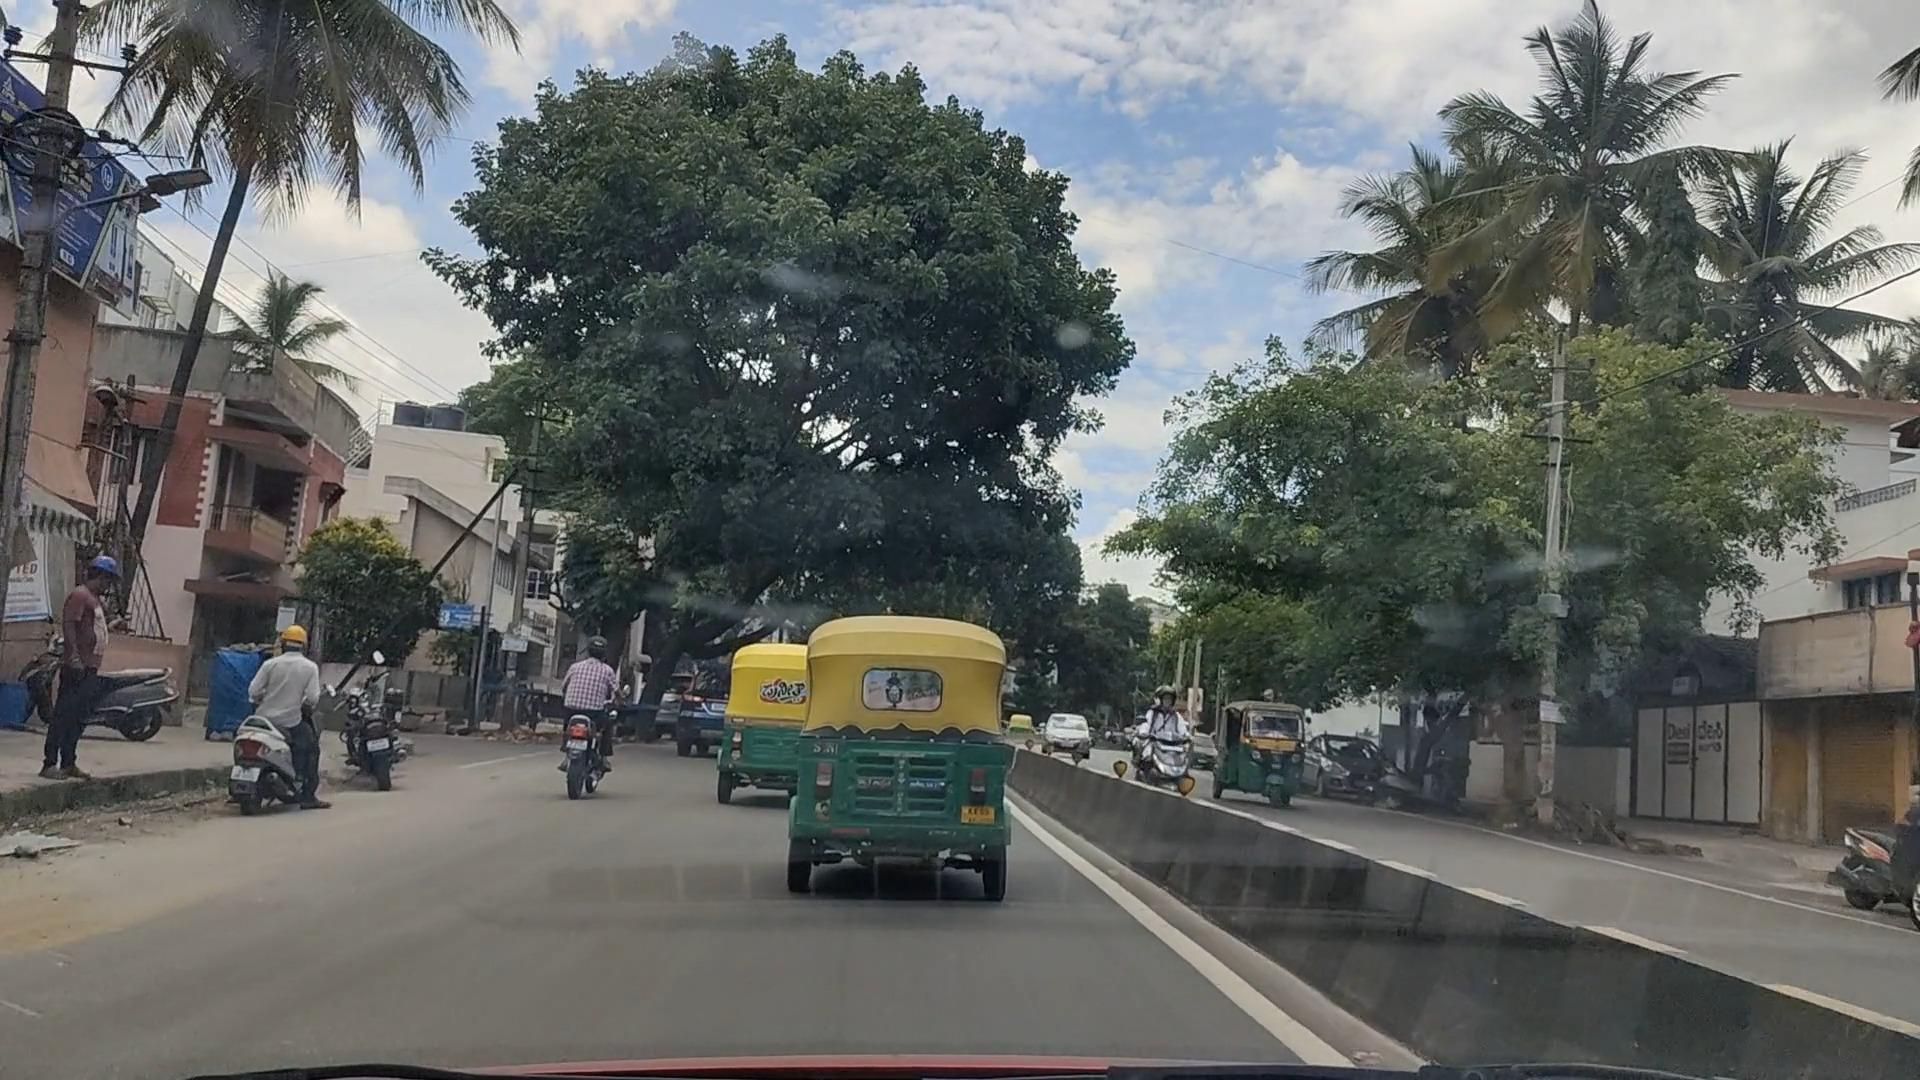LMV: (798, 644, 998, 906), (214, 618, 334, 819), (510, 638, 633, 819), (713, 638, 810, 789)
